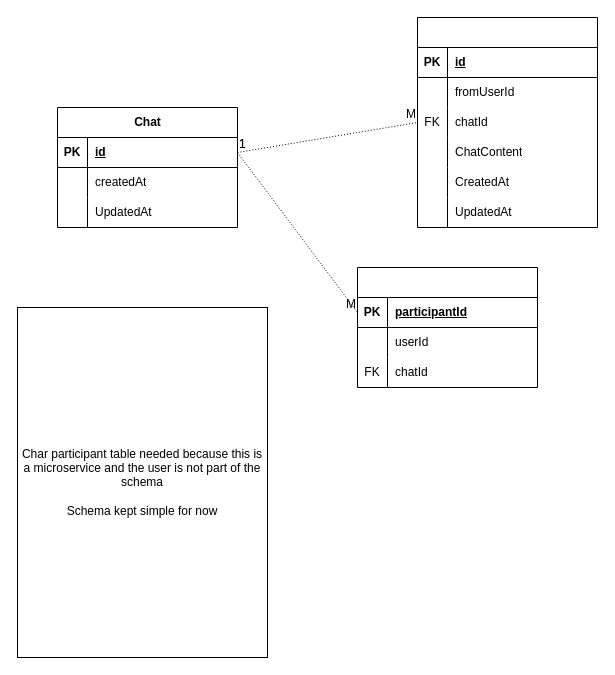
Image size: 615x675. Some labels were removed from this diagram. Here are the shapes that lost their labels. From the top down, the box of each, then its label:
(416, 16, 598, 228): Messages
(356, 266, 538, 388): ChatParticipant
